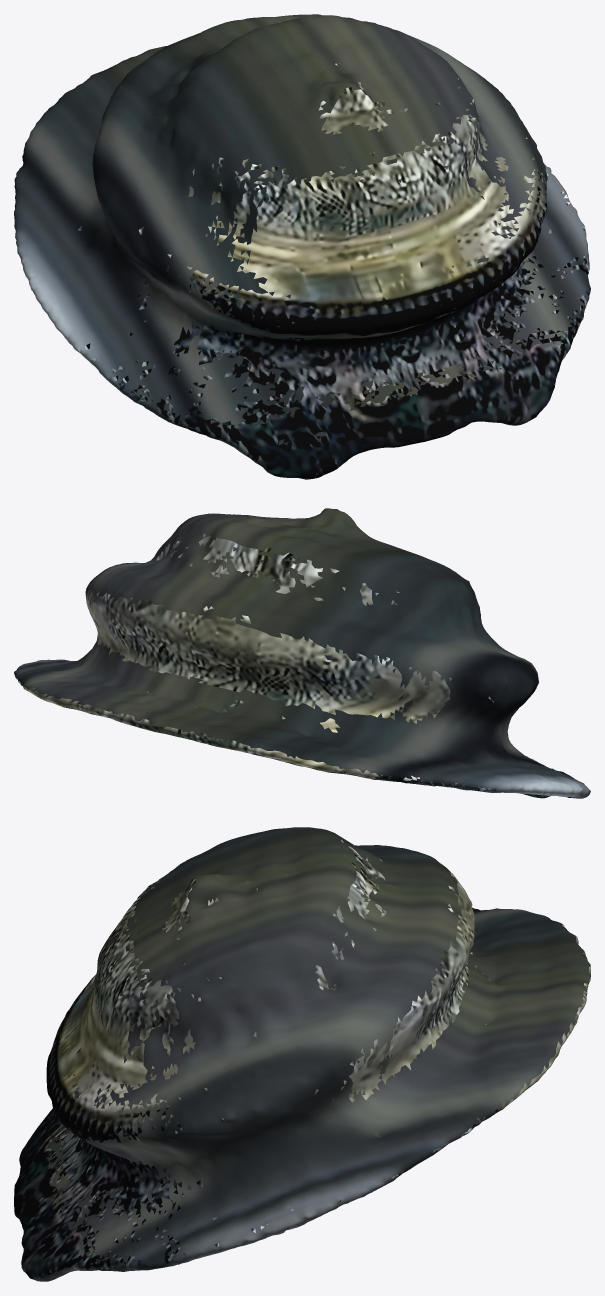
The model's file is kfl-2152.glb.
The picture shows the model from 3 angles, top to bottom: view 1: azimuth 30°, elevation 25°; view 2: azimuth 150°, elevation 25°; view 3: azimuth 270°, elevation 25°; orthographic projection. The views are drawn at different scales.
Parts seen in each view (by area): view 1: kfl-2152; view 2: kfl-2152; view 3: kfl-2152.
Boxes of the visible parts, <box> form: kfl-2152: <box>14,14,590,479</box>; kfl-2152: <box>14,508,590,798</box>; kfl-2152: <box>14,827,590,1281</box>.
Bounding box in the file's own units: 0.9835 × 0.5929 × 0.8545.
Materials: 4 (4 with a texture image).
